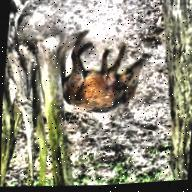boar: (59, 32, 164, 122)
